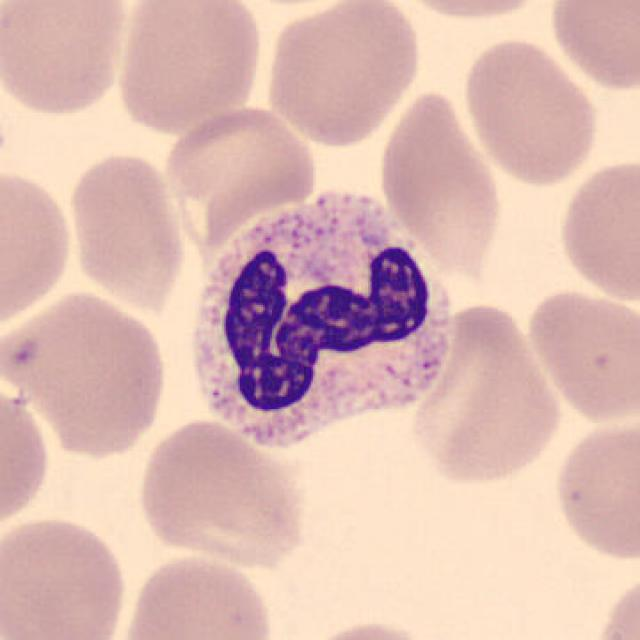Neutrophil: (178, 180, 462, 455)
RBC: (406, 298, 566, 490), (2, 288, 172, 460), (133, 416, 311, 570), (375, 86, 507, 275), (259, 0, 425, 148), (458, 35, 602, 189), (112, 0, 267, 138), (64, 148, 190, 314), (160, 102, 320, 224), (0, 511, 132, 640), (521, 286, 638, 425), (0, 0, 133, 120), (116, 550, 279, 640), (550, 413, 638, 564), (0, 162, 76, 329), (555, 153, 638, 305), (544, 0, 640, 95), (0, 379, 53, 534), (384, 0, 558, 25), (295, 615, 443, 640), (592, 566, 638, 640)
